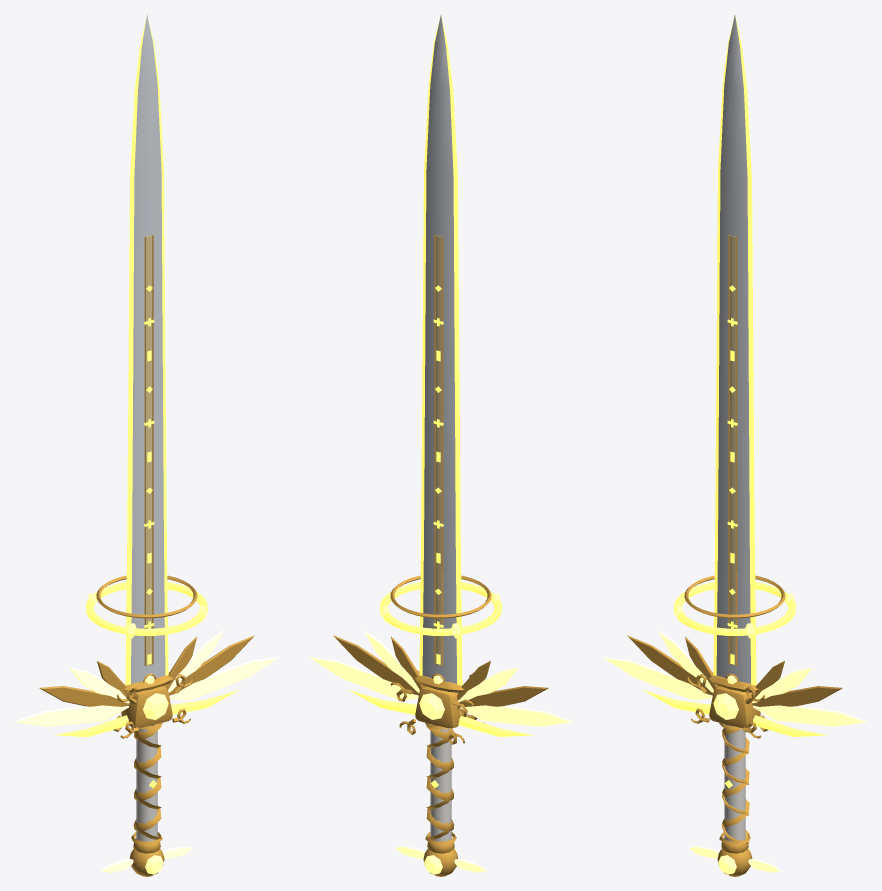
File: celestial_excalibur.glb
The picture shows the model from 3 angles, left to right: view 1: azimuth 30°, elevation 25°; view 2: azimuth 150°, elevation 25°; view 3: azimuth 330°, elevation 25°; orthographic projection.
Visible parts, largest first — view 1: celestial_excalibur; view 2: celestial_excalibur; view 3: celestial_excalibur.
Part boxes in pixels (x1,y1,x2,y2): celestial_excalibur: (14, 15, 279, 876); celestial_excalibur: (308, 15, 573, 876); celestial_excalibur: (602, 15, 867, 876).
Bounding box in the file's own units: 0.4533 × 1.41 × 0.1804.
